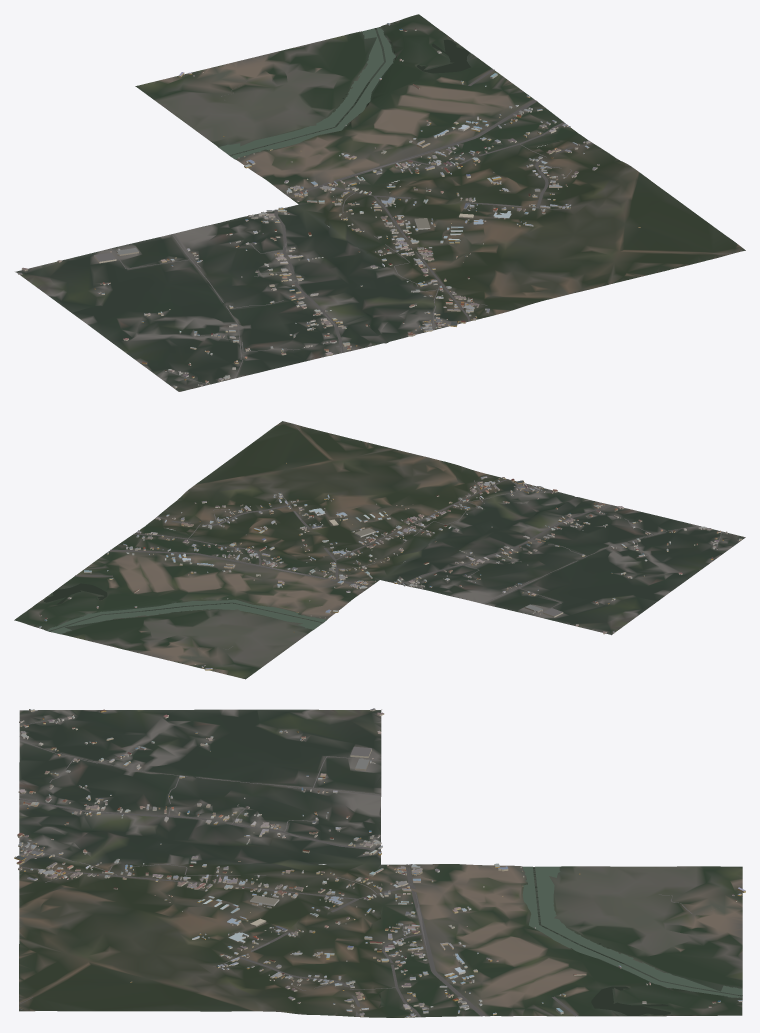
3 renders of one model, top to bottom at view 1: azimuth 30°, elevation 25°; view 2: azimuth 150°, elevation 25°; view 3: azimuth 270°, elevation 25°, orthographic. The views are drawn at different scales.
Visible parts, largest first — view 1: ground, buildings, water, roads; view 2: ground, buildings, water, roads; view 3: ground, buildings, water, roads.
Boxes of the visible parts, x1,y1,x2,y2 form: ground: (15,14,745,391); buildings: (18,23,640,388); water: (218,27,470,159); roads: (16,69,741,384); ground: (14,421,745,679); buildings: (39,462,742,670); water: (44,583,326,633); roads: (75,422,721,665); ground: (19,709,742,1017); buildings: (14,708,745,1017); water: (522,866,742,1015); roads: (19,709,714,1017).
Bounding box in the file's own units: 2806 × 39.27 × 2834.
